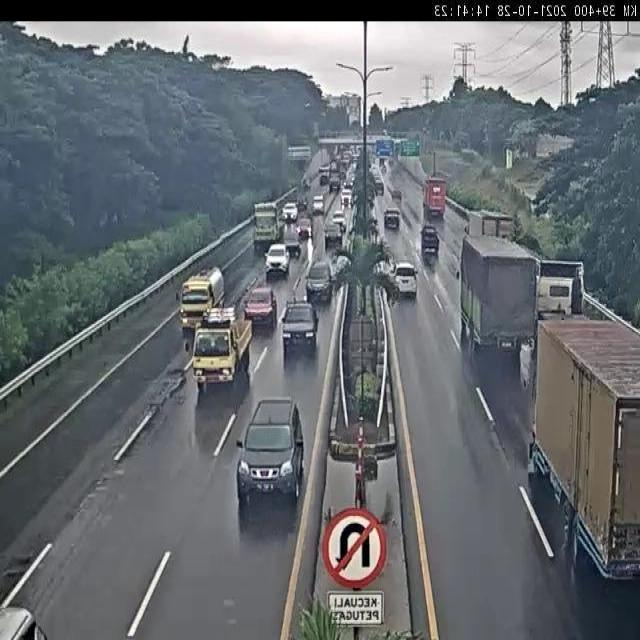Car: (236, 397, 305, 516), (280, 298, 319, 359), (243, 286, 278, 332), (0, 605, 43, 640), (305, 258, 335, 303), (391, 260, 418, 298), (264, 244, 291, 276), (420, 226, 440, 260), (331, 253, 351, 284), (384, 208, 401, 230), (282, 202, 298, 222), (332, 209, 345, 232), (369, 164, 381, 187), (340, 186, 352, 208), (312, 194, 324, 214), (318, 164, 329, 184), (329, 175, 340, 192), (344, 177, 354, 192), (349, 146, 359, 161)
Truck: (517, 302, 640, 570), (459, 234, 537, 373), (192, 317, 245, 391), (180, 264, 227, 338), (253, 199, 280, 253), (424, 177, 447, 220)
